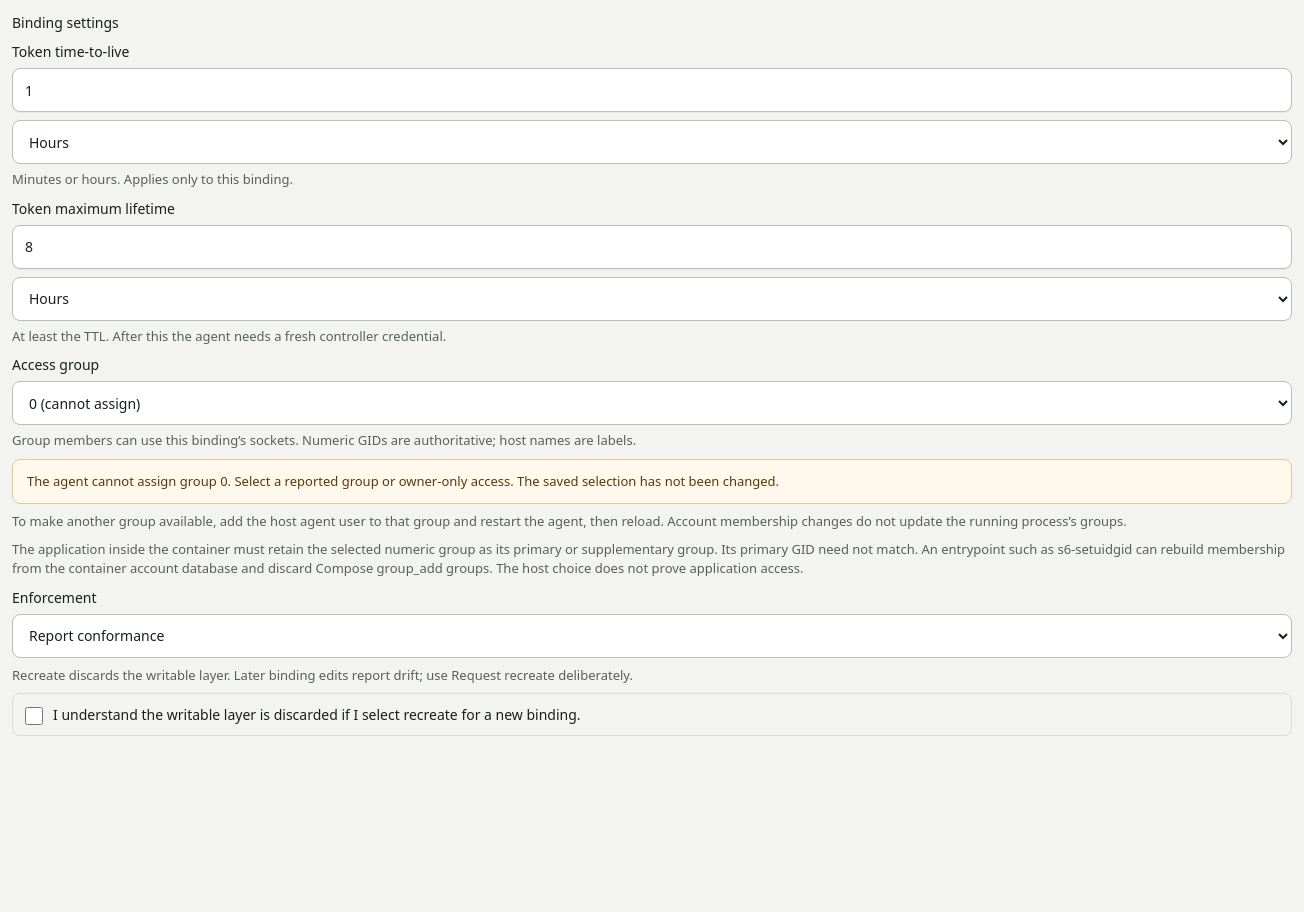
Test case: offers only process groups and owner-only, preserving invalid selections
Expected: the message shows "cannot assign group 0", top-left (12, 458), bottom-right (1292, 504)
Select "sample (987)" in the dropdown labelled "Access group". click: (652, 403)
box: top-left (12, 381), bottom-right (1292, 425)
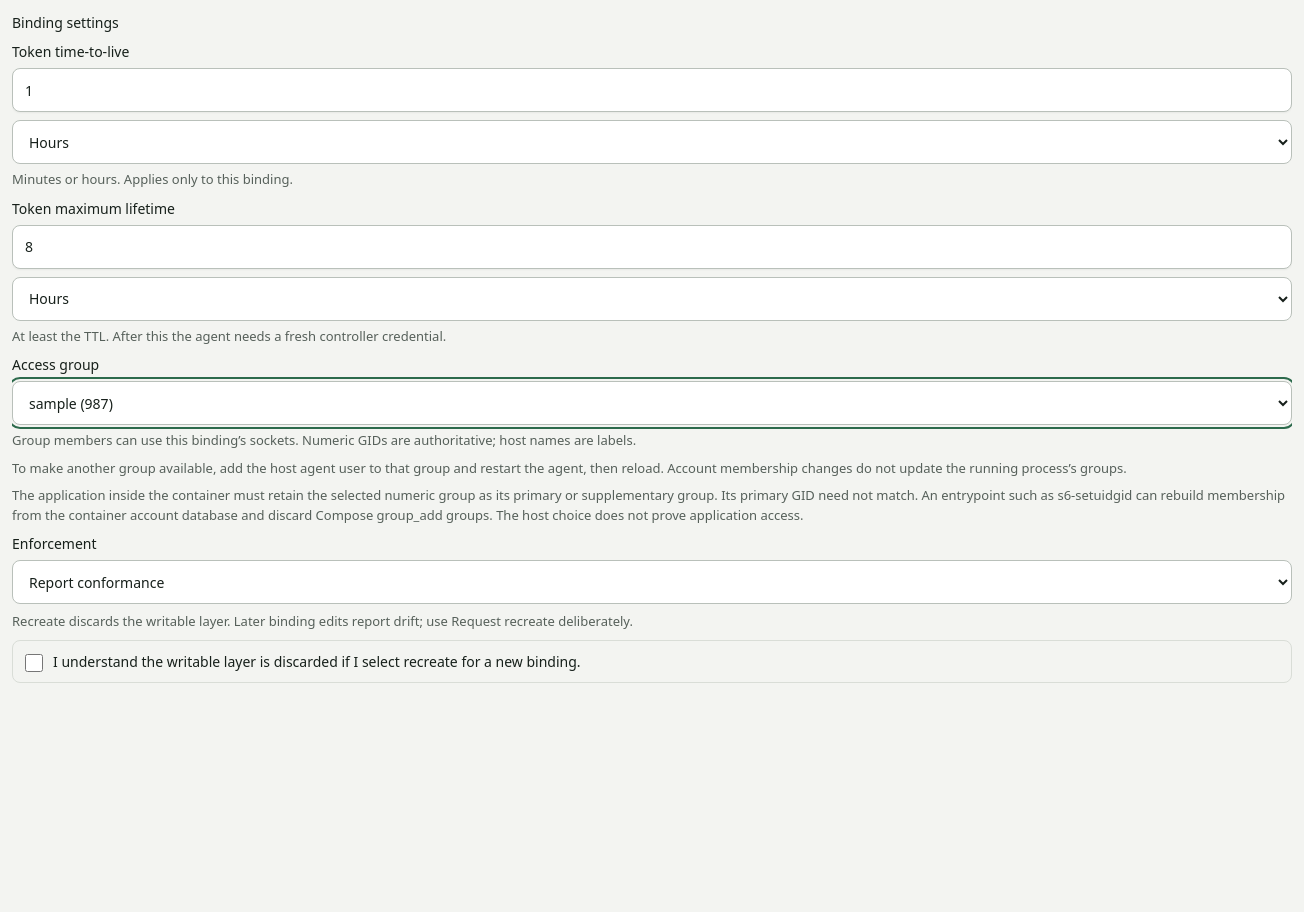
Result: the message is gone
Select "Owner-only (omit access group)" in the dropdown labelled "Access group". click: (652, 403)
box: top-left (12, 381), bottom-right (1292, 425)
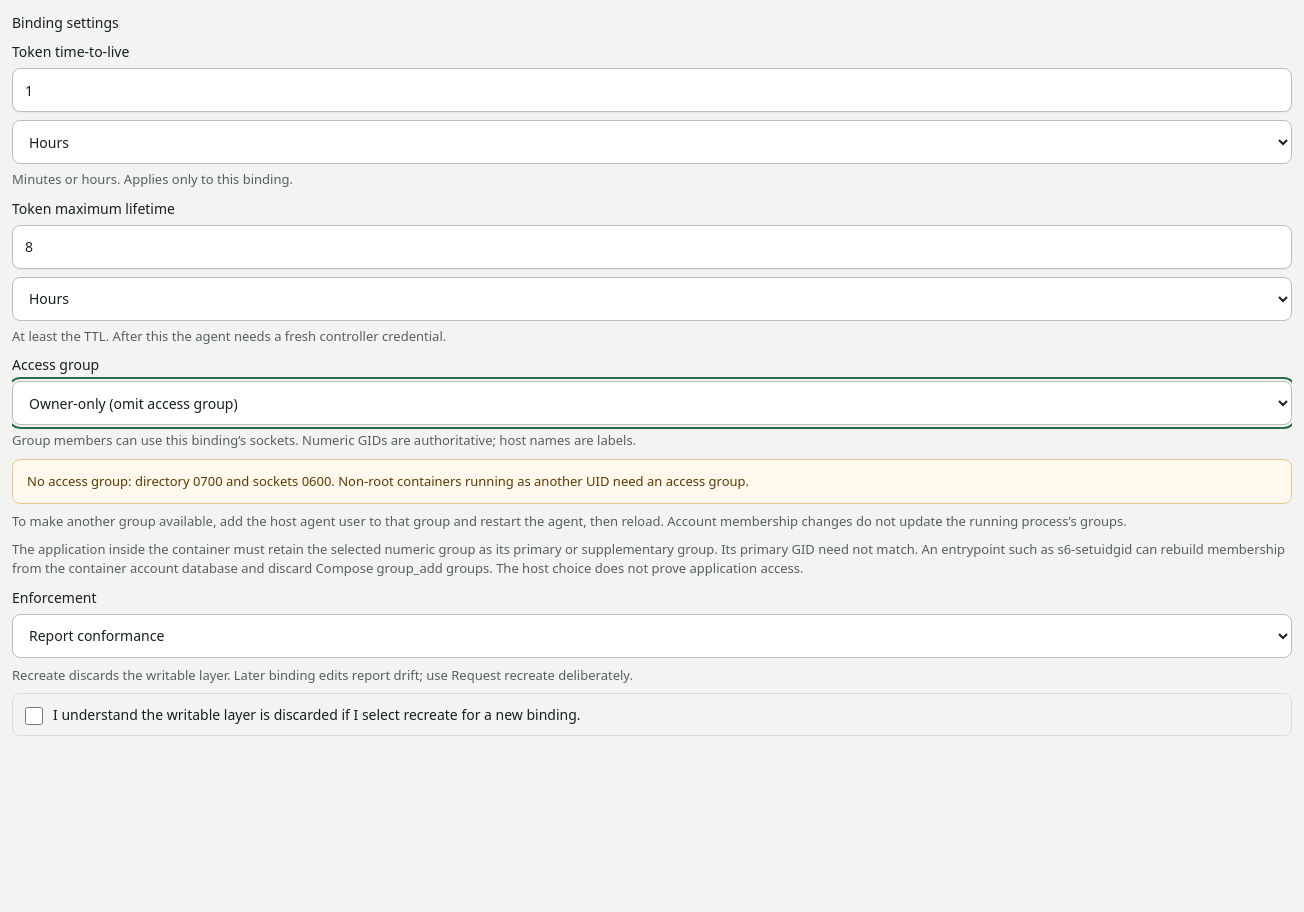
Expected: the text "s6-setuidgid" shows "primary GID need not match", top-left (12, 540), bottom-right (1285, 577)
Result: the text "No access group:" is shown at top-left (27, 472), bottom-right (749, 490)
